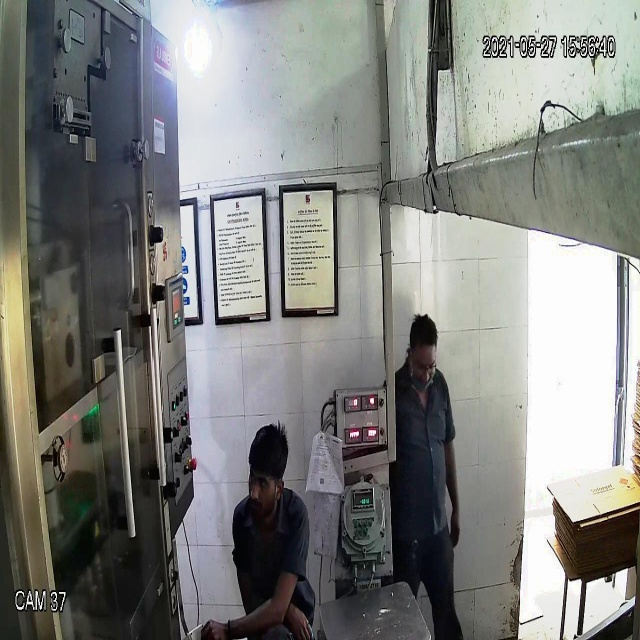Sin_gafas: (247, 467, 280, 496)
